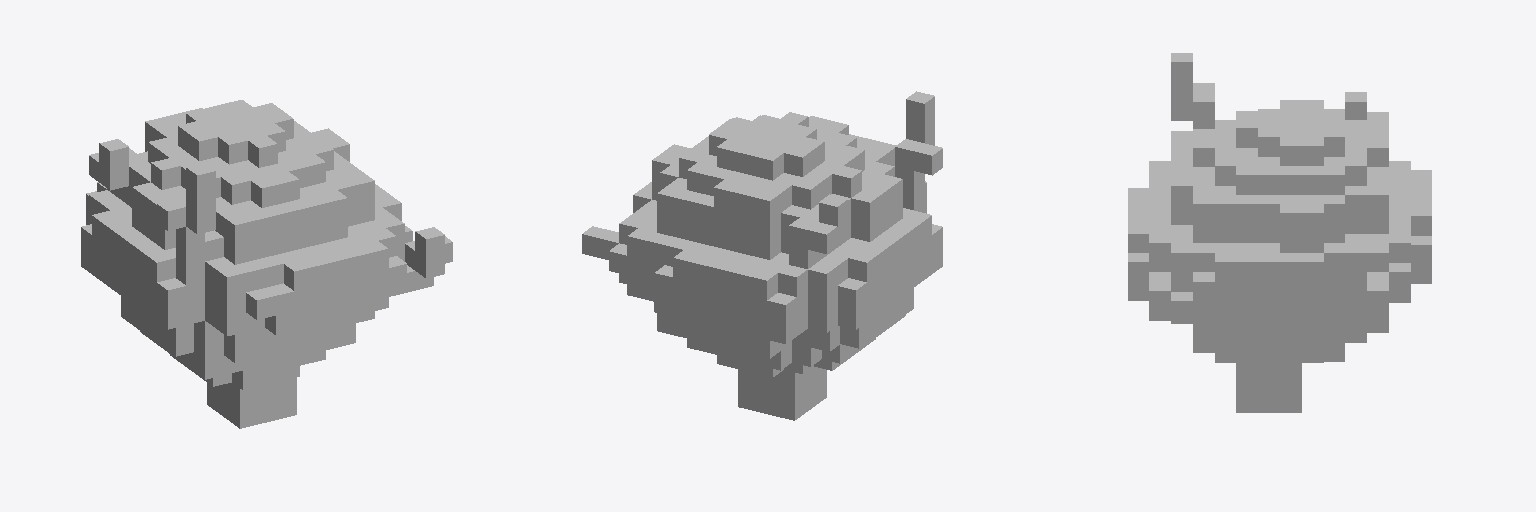
The model's file is chicken-5.obj.
3 renders of one model, left to right at view 1: azimuth 30°, elevation 25°; view 2: azimuth 150°, elevation 25°; view 3: azimuth 270°, elevation 25°, orthographic.
Parts seen in each view (by area): view 1: object 1; view 2: object 1; view 3: object 1.
Part boxes in pixels (x1,y1,x2,y2): object 1: (81,100,452,428); object 1: (582,91,942,420); object 1: (1128,53,1431,412).
Bounding box in the file's own units: 1.4 × 1.5 × 1.4.